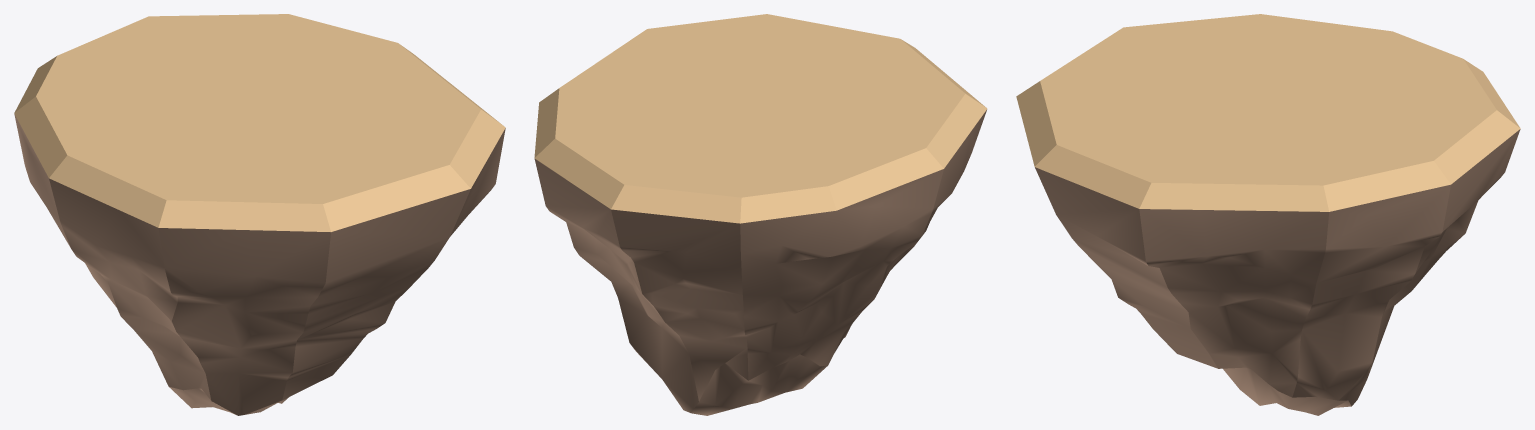
The model's file is tile_2_1.fbx.
3 views of the same model, side by side, from view 1: azimuth 30°, elevation 25°; view 2: azimuth 150°, elevation 25°; view 3: azimuth 270°, elevation 25° (orthographic). The views are drawn at different scales.
Visible parts, largest first — view 1: Jump_Map_Tiles_1; view 2: Jump_Map_Tiles_1; view 3: Jump_Map_Tiles_1.
Part boxes in pixels (x1,y1,x2,y2): Jump_Map_Tiles_1: (14, 14, 505, 415); Jump_Map_Tiles_1: (534, 14, 987, 415); Jump_Map_Tiles_1: (1016, 14, 1520, 415).
Bounding box in the file's own units: 11.37 × 8.42 × 12.79.
